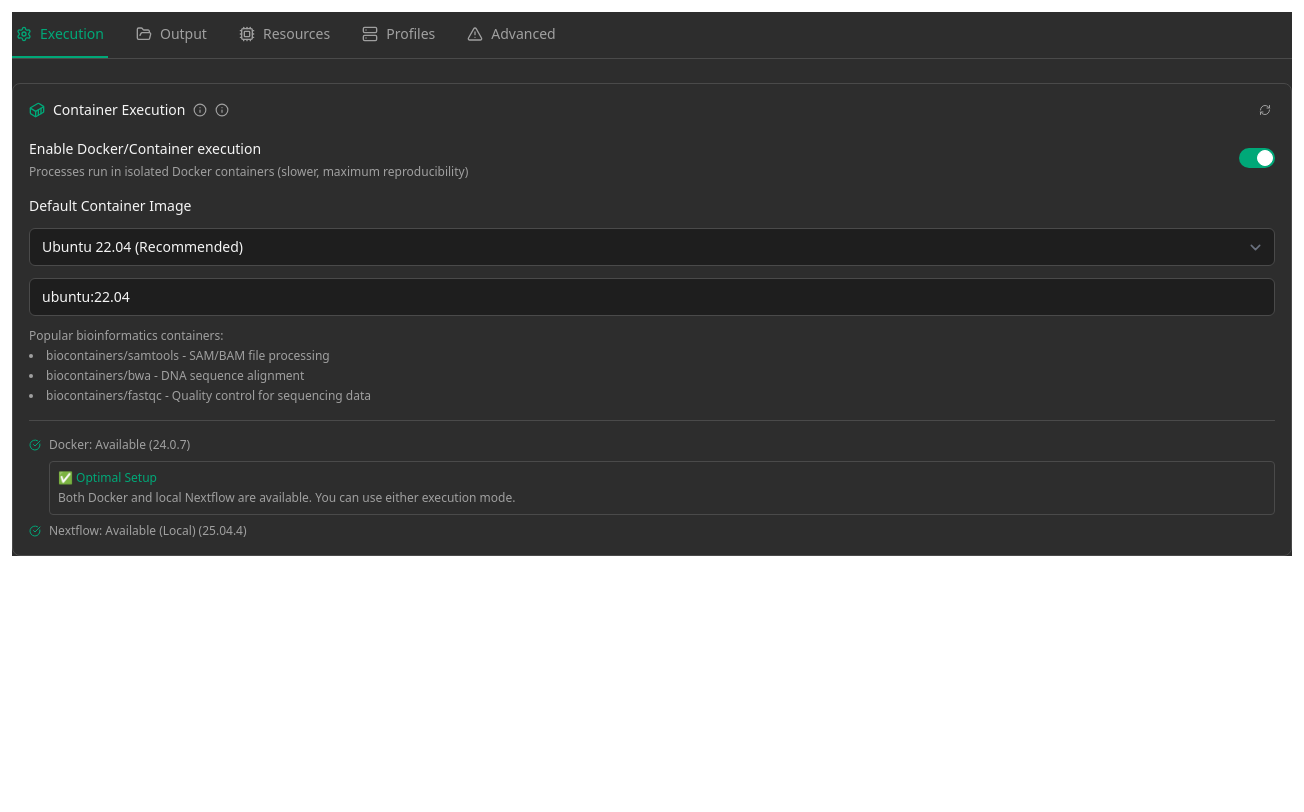
Test: ExecutionSettings › Resources tab › warns about own limits above the global ones
Expected: the text "Docker: Available (24.0.7)" is shown, [49,437,190,453]
Click the button "Resources" at (285, 35), box [235,12,334,58]
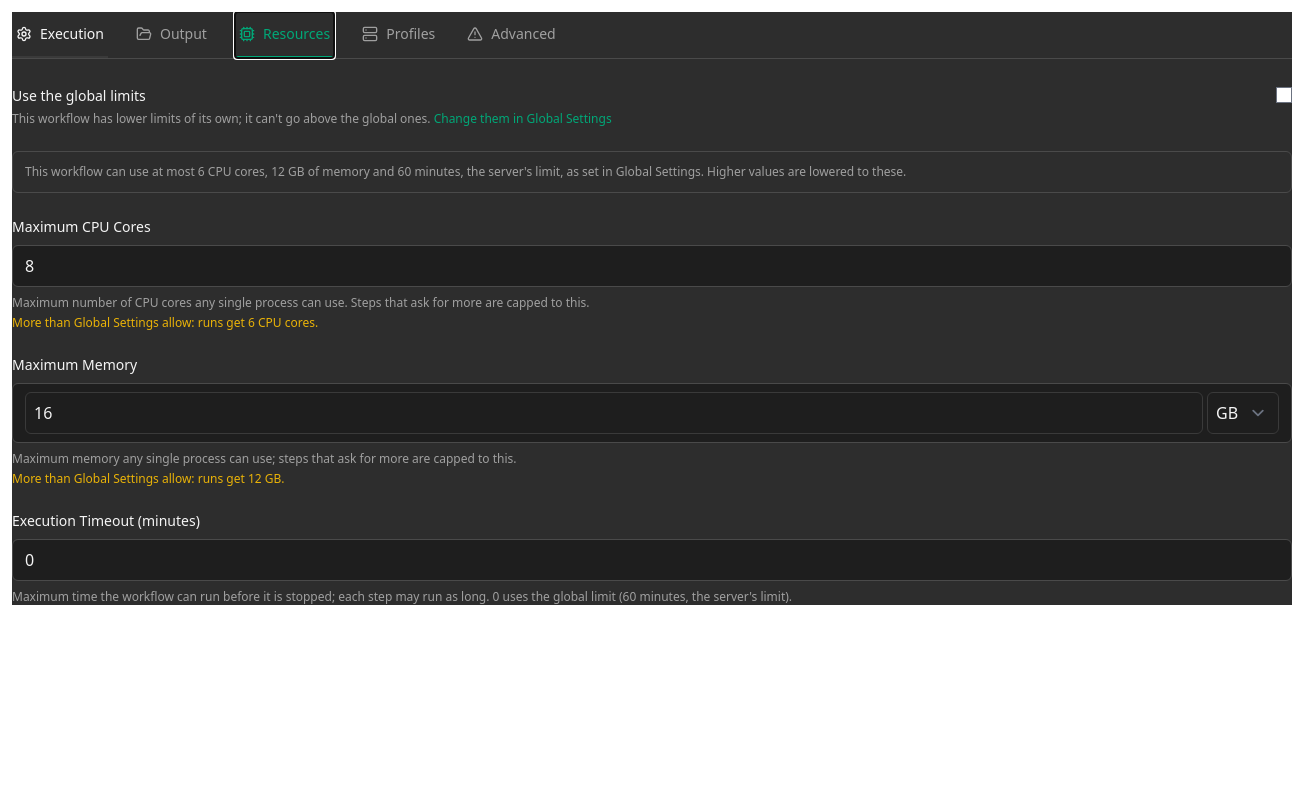
Now the text "More than Global Settings allow: runs get 6 CPU cores." is shown, box [12,314,318,331]
Now the text "More than Global Settings allow: runs get 12 GB." is shown, box [12,470,284,487]
